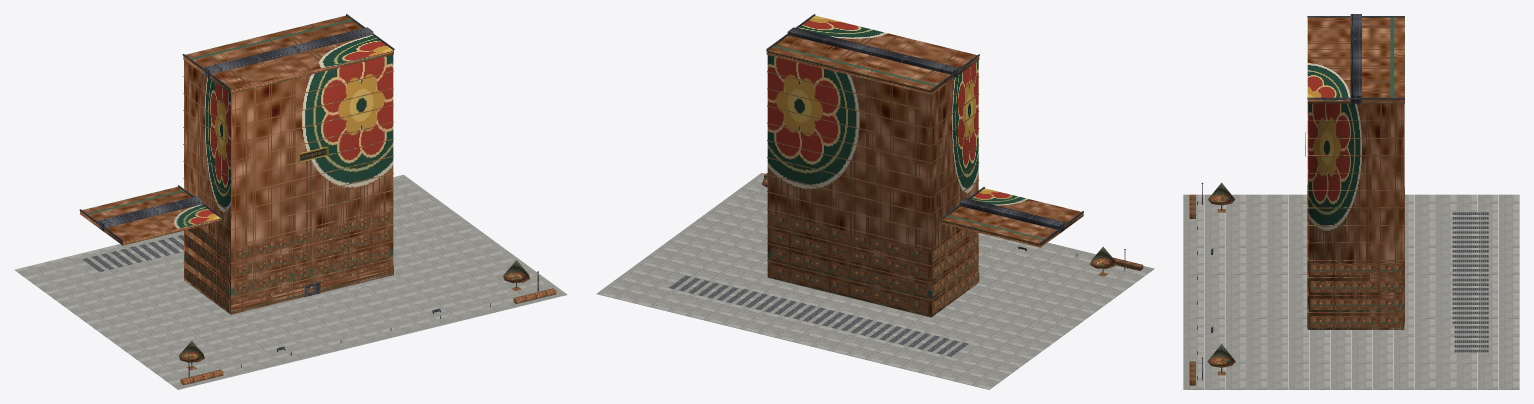
3 renders of one model, left to right at view 1: azimuth 30°, elevation 25°; view 2: azimuth 150°, elevation 25°; view 3: azimuth 270°, elevation 25°, orthographic. The views are drawn at different scales.
Visible parts, largest first — view 1: 11680_01_06227_025_02__mass_body_facade, 11680_01_06227_025_01__plinth_ground_base, 11680_01_06227_025_03__roof_metal_ornament, 11680_01_06227_025_05__window_sash_glass, 11680_01_06227_025_06__landscape_greenery, 11680_01_06227_025_03__roof_deck_structure; view 2: 11680_01_06227_025_02__mass_body_facade, 11680_01_06227_025_01__plinth_ground_base, 11680_01_06227_025_03__roof_metal_ornament, 11680_01_06227_025_03__roof_deck_structure, 11680_01_06227_025_06__landscape_greenery; view 3: 11680_01_06227_025_01__plinth_ground_base, 11680_01_06227_025_02__mass_body_facade, 11680_01_06227_025_03__roof_deck_structure, 11680_01_06227_025_03__roof_metal_ornament, 11680_01_06227_025_06__landscape_greenery.
Part boxes in pixels (x1,y1,x2,y2): 11680_01_06227_025_02__mass_body_facade: [80, 15, 393, 314]; 11680_01_06227_025_01__plinth_ground_base: [14, 174, 567, 389]; 11680_01_06227_025_03__roof_metal_ornament: [79, 14, 394, 241]; 11680_01_06227_025_05__window_sash_glass: [237, 212, 387, 306]; 11680_01_06227_025_06__landscape_greenery: [179, 260, 556, 385]; 11680_01_06227_025_03__roof_deck_structure: [82, 235, 183, 271]; 11680_01_06227_025_02__mass_body_facade: [766, 15, 1083, 317]; 11680_01_06227_025_01__plinth_ground_base: [596, 173, 1154, 389]; 11680_01_06227_025_03__roof_metal_ornament: [766, 14, 1083, 243]; 11680_01_06227_025_03__roof_deck_structure: [669, 275, 968, 356]; 11680_01_06227_025_06__landscape_greenery: [762, 173, 1143, 276]; 11680_01_06227_025_01__plinth_ground_base: [1183, 194, 1519, 389]; 11680_01_06227_025_02__mass_body_facade: [1307, 17, 1404, 329]; 11680_01_06227_025_03__roof_deck_structure: [1452, 212, 1488, 352]; 11680_01_06227_025_03__roof_metal_ornament: [1307, 14, 1404, 103]; 11680_01_06227_025_06__landscape_greenery: [1189, 182, 1235, 385].
Size of the model in its own units: 95.95 by 54.5 by 69.95.
7 materials, 7 textured.
